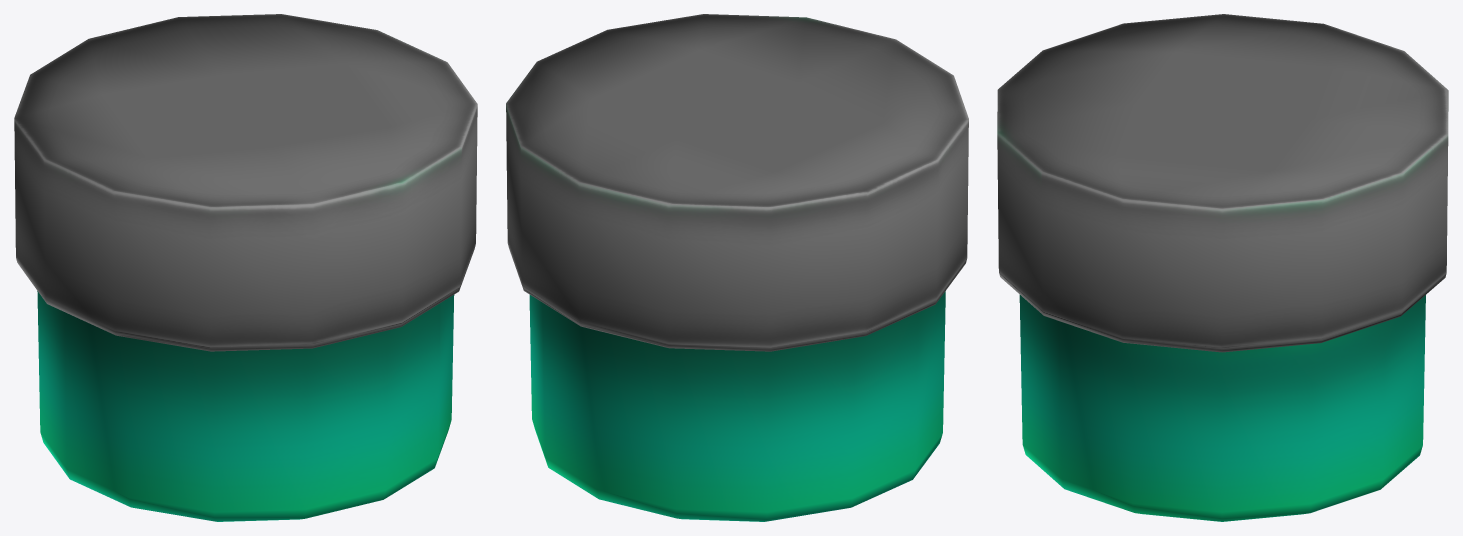
File: BOTON_INICIAR.fbx
The picture shows the model from 3 angles, left to right: view 1: azimuth 30°, elevation 25°; view 2: azimuth 150°, elevation 25°; view 3: azimuth 270°, elevation 25°; orthographic projection.
Parts seen in each view (by area): view 1: BOTON_INICIAR; view 2: BOTON_INICIAR; view 3: BOTON_INICIAR.
Boxes of the visible parts, left/top/right/bottom form: BOTON_INICIAR: left=14, top=14, right=477, bottom=521; BOTON_INICIAR: left=506, top=14, right=968, bottom=521; BOTON_INICIAR: left=997, top=14, right=1448, bottom=521.
Bounding box in the file's own units: 5.54 × 4.43 × 5.41.
